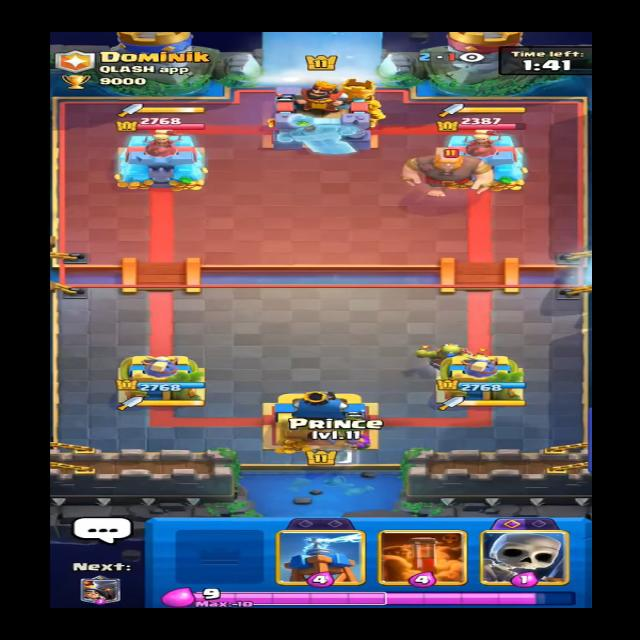giant: (394, 141, 498, 203)
